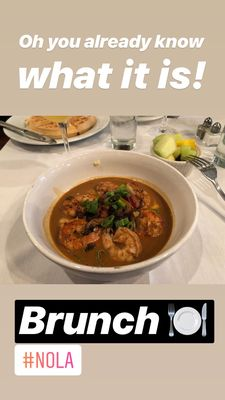sandwich: (1, 120, 59, 144)
sushi: (21, 150, 198, 282)
